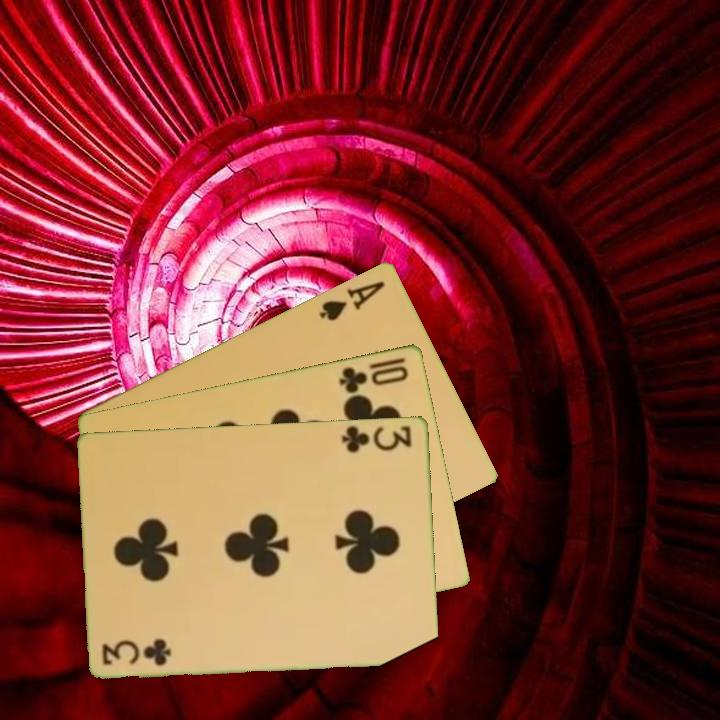10c: (335, 353, 412, 396)
3c: (338, 421, 415, 455), (99, 637, 175, 668)
As: (315, 277, 388, 324)
